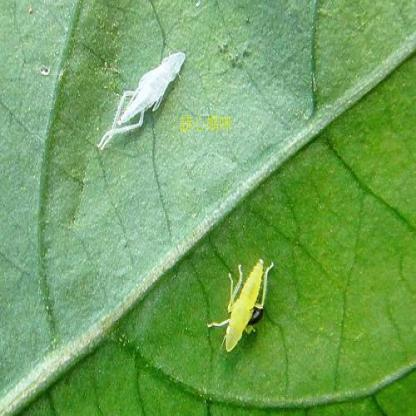green-leafhopper: (98, 48, 188, 152), (211, 252, 275, 354)
